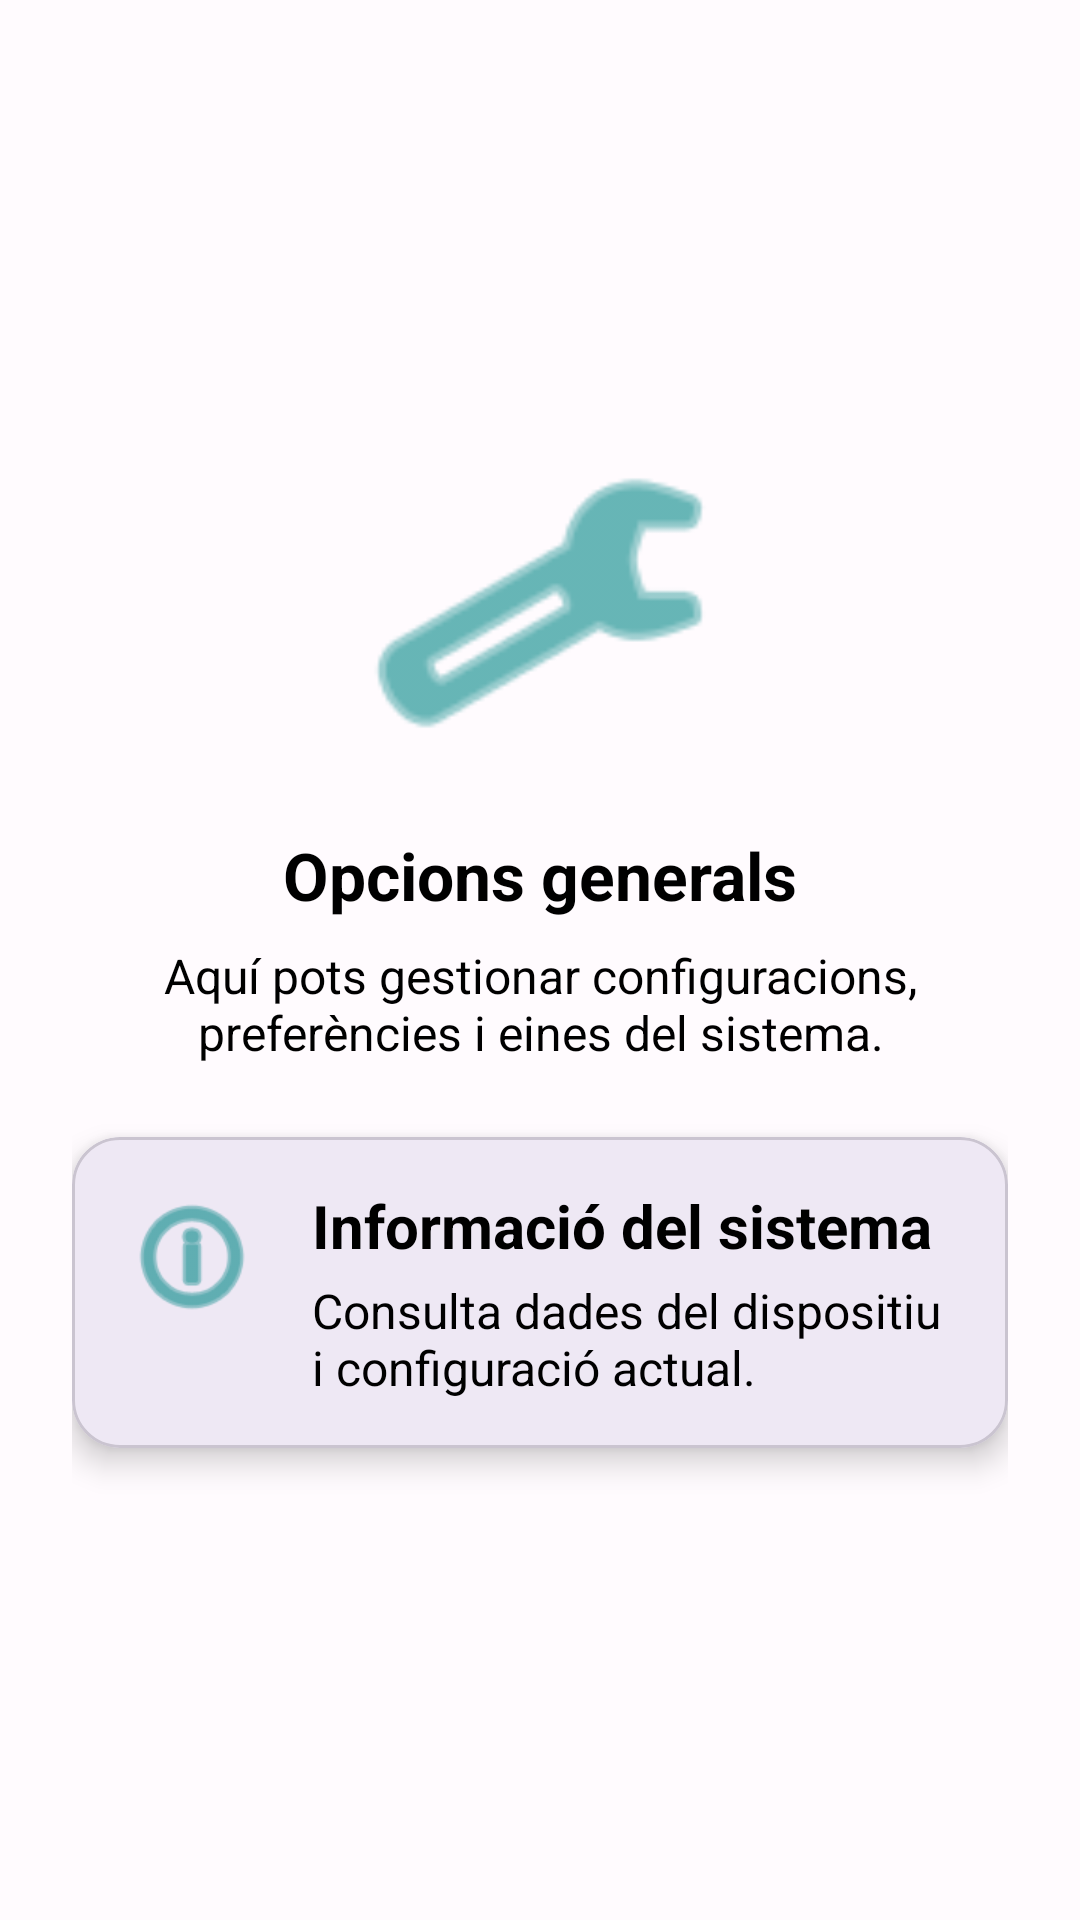

Named icons in this screenshot (1080px x 1920px) and their bounding boxes, (x1, y1, x2, y2):
info details: (140, 1205, 244, 1309)
manage: (377, 479, 703, 727)
